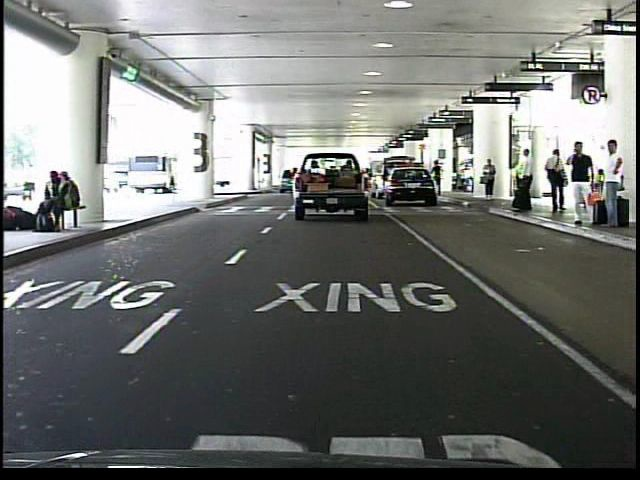person: (563, 138, 597, 227), (598, 137, 628, 236), (545, 145, 571, 216), (511, 146, 537, 216), (480, 158, 499, 204), (432, 160, 444, 199)
